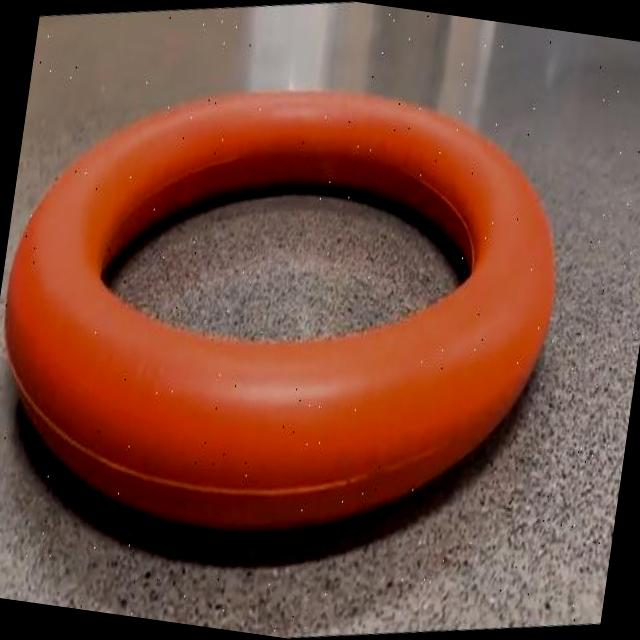note: (6, 92, 555, 530)
